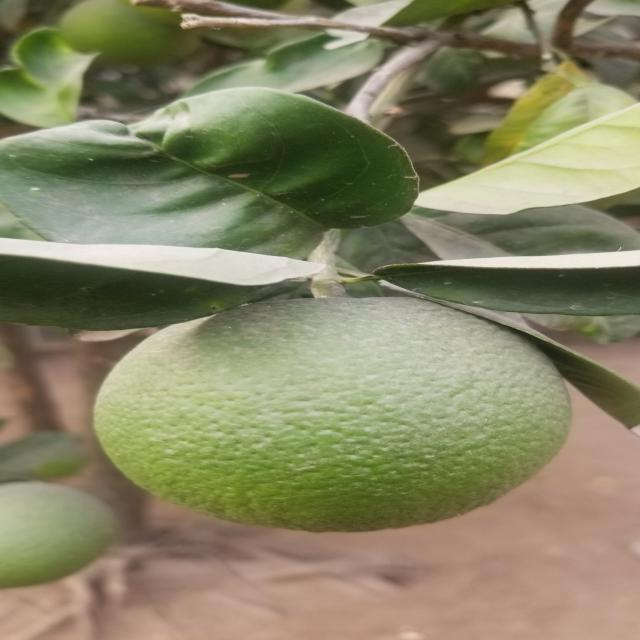Unripe: (91, 291, 575, 528)
